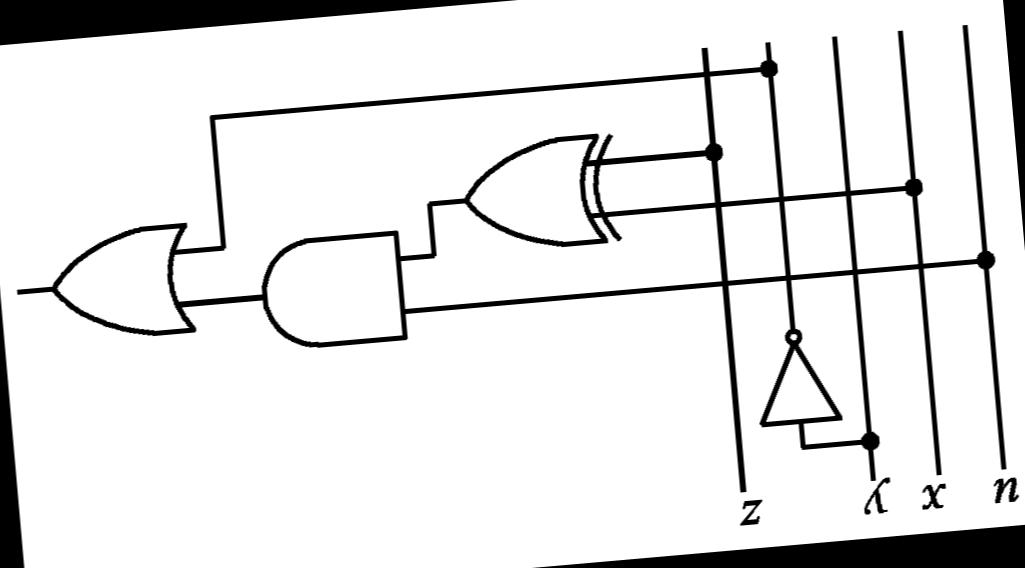and: (232, 206, 435, 376)
not: (736, 310, 856, 443)
or: (32, 192, 212, 362)
xor: (449, 115, 646, 267)
